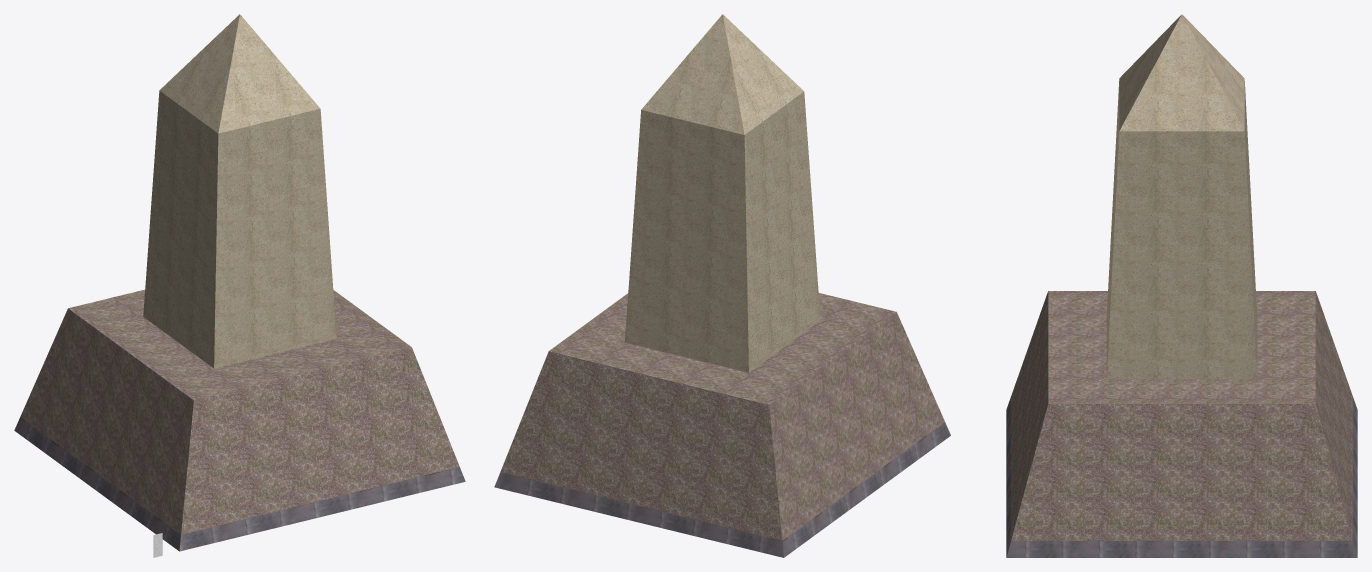
File: Solartemple_Userkaf.glb
3 views of the same model, side by side, from view 1: azimuth 30°, elevation 25°; view 2: azimuth 150°, elevation 25°; view 3: azimuth 270°, elevation 25° (orthographic). The views are drawn at different scales.
Parts seen in each view (by area): view 1: Mesh1 Model; view 2: Mesh1 Model; view 3: Mesh1 Model.
Boxes of the visible parts, box(x1,y1,x2,y2) form: Mesh1 Model: box(14, 14, 465, 551); Mesh1 Model: box(494, 14, 950, 557); Mesh1 Model: box(1006, 14, 1357, 557).
Size of the model in its own units: 22.93 by 31 by 21.
5 materials, 4 textured.
